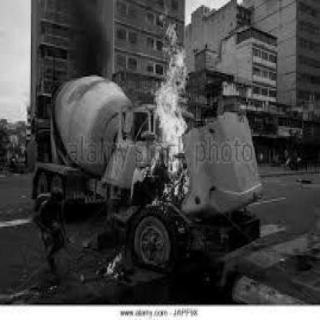Fire: (101, 237, 133, 279)
